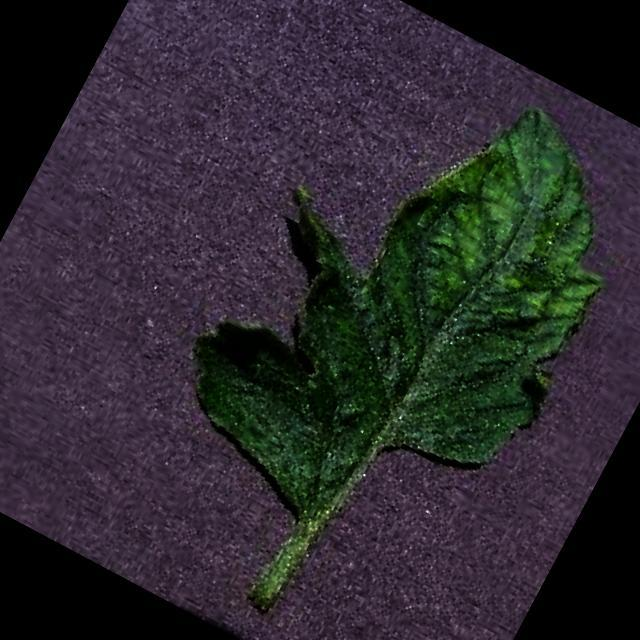Tomato mosaic virus leaf: (139, 10, 640, 597)
